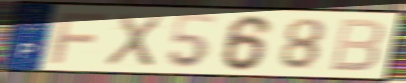5: (167, 11, 221, 71)
6: (221, 13, 273, 72)
8: (276, 17, 329, 71)
B: (327, 17, 387, 74)
F: (49, 12, 111, 66)
X: (102, 11, 165, 69)
